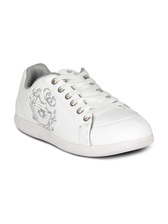shoes: (12, 60, 156, 157)
